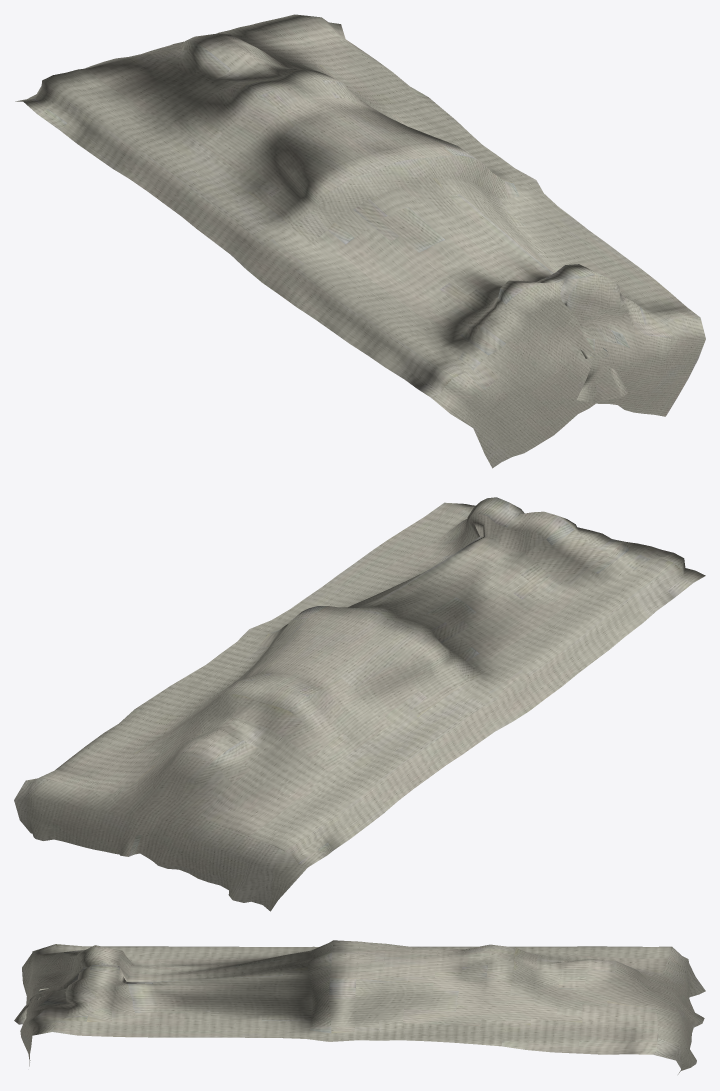
Rendered from covered_body.glb.
3 renders of one model, top to bottom at view 1: azimuth 30°, elevation 25°; view 2: azimuth 150°, elevation 25°; view 3: azimuth 270°, elevation 25°, orthographic. The views are drawn at different scales.
Parts seen in each view (by area): view 1: Maca; view 2: Maca; view 3: Maca.
Boxes of the visible parts, x1,y1,x2,y2 form: Maca: (15,14,705,468); Maca: (14,497,705,911); Maca: (14,940,705,1074).
Bounding box in the file's own units: 0.74 × 0.3 × 1.9.
Materials: 1 (1 with a texture image).
